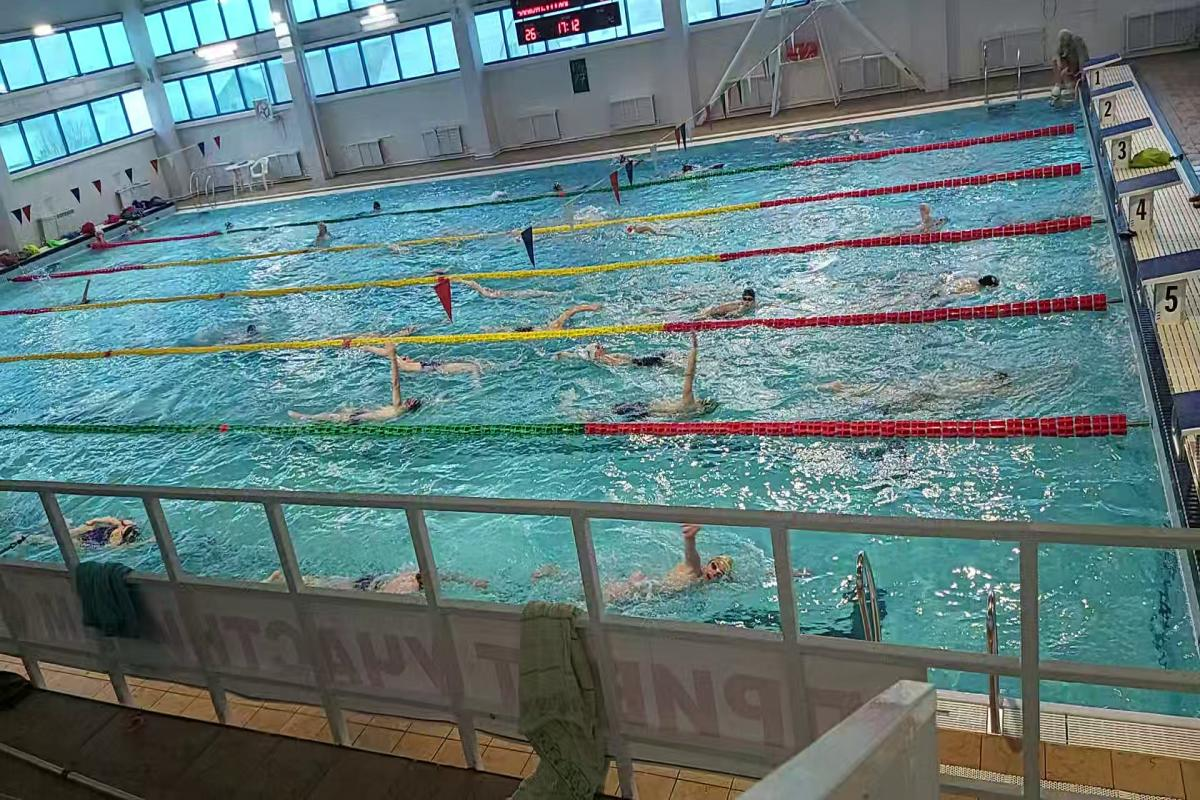swimmer: (529, 537, 743, 613), (278, 553, 458, 599), (347, 337, 498, 384), (292, 373, 430, 424), (38, 502, 158, 560), (553, 336, 683, 374), (636, 382, 726, 420), (458, 275, 563, 305), (932, 261, 1012, 300), (703, 283, 778, 315), (896, 198, 954, 231), (618, 224, 701, 242), (308, 218, 346, 242)
